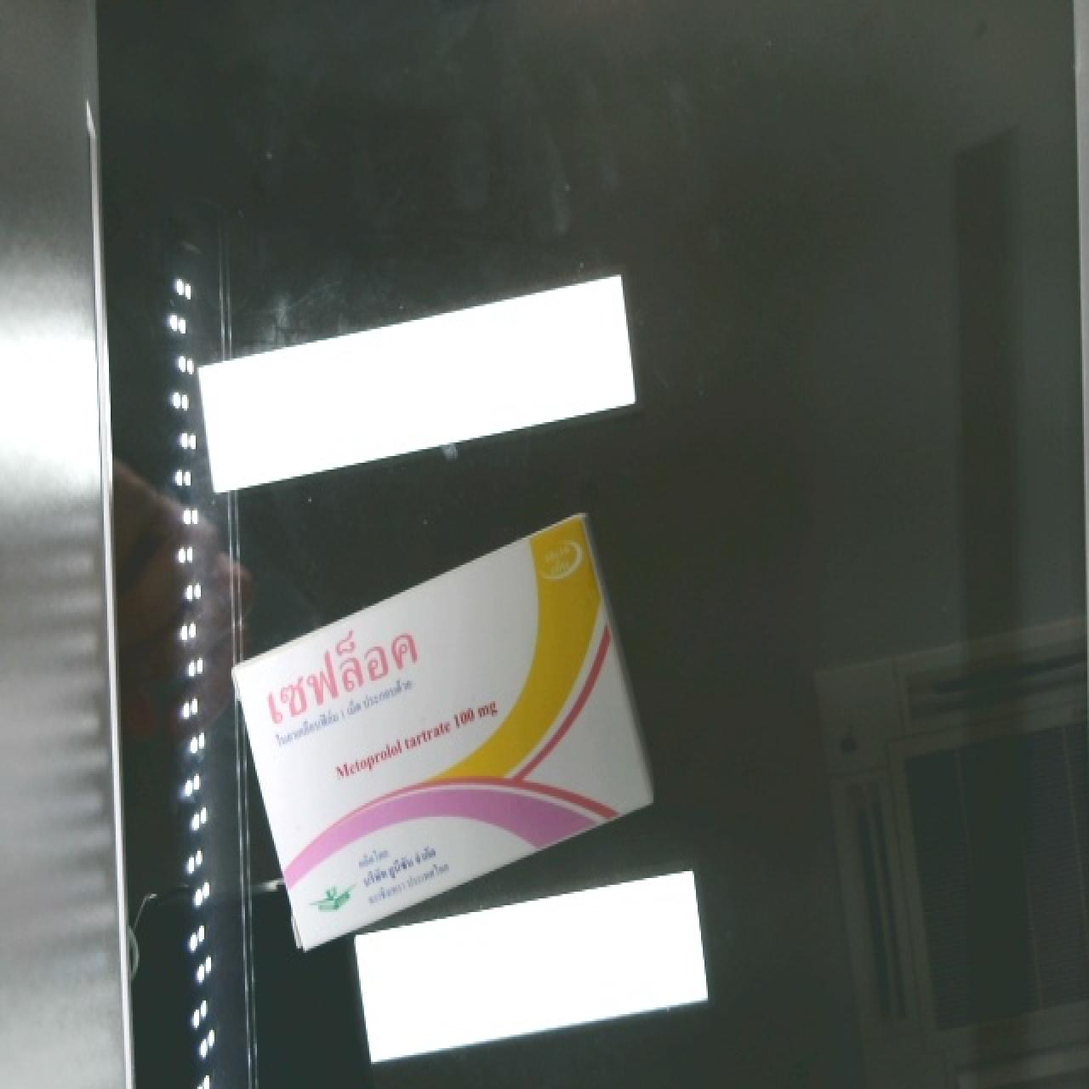medicine_label_obb: (222, 592, 448, 755)
